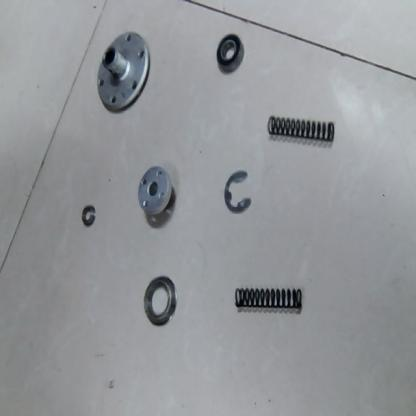FOD: (3, 2, 414, 413), (94, 29, 152, 117), (135, 161, 178, 223), (266, 111, 340, 147), (232, 282, 308, 315), (143, 272, 181, 329), (221, 168, 255, 217), (214, 28, 246, 77), (78, 202, 98, 230)
